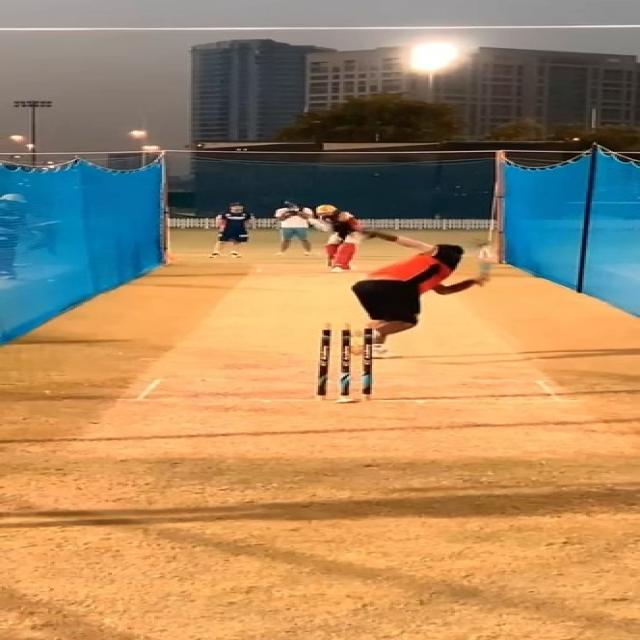batsman: (308, 204, 366, 273)
